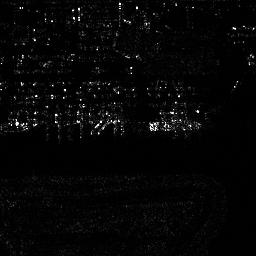ship: (146, 120, 201, 131)
